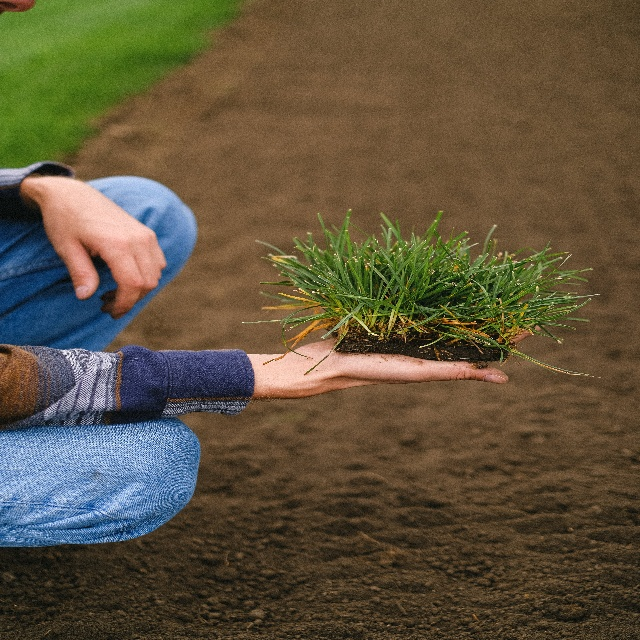Sin_guantes: (296, 316, 547, 394), (36, 173, 166, 321)
